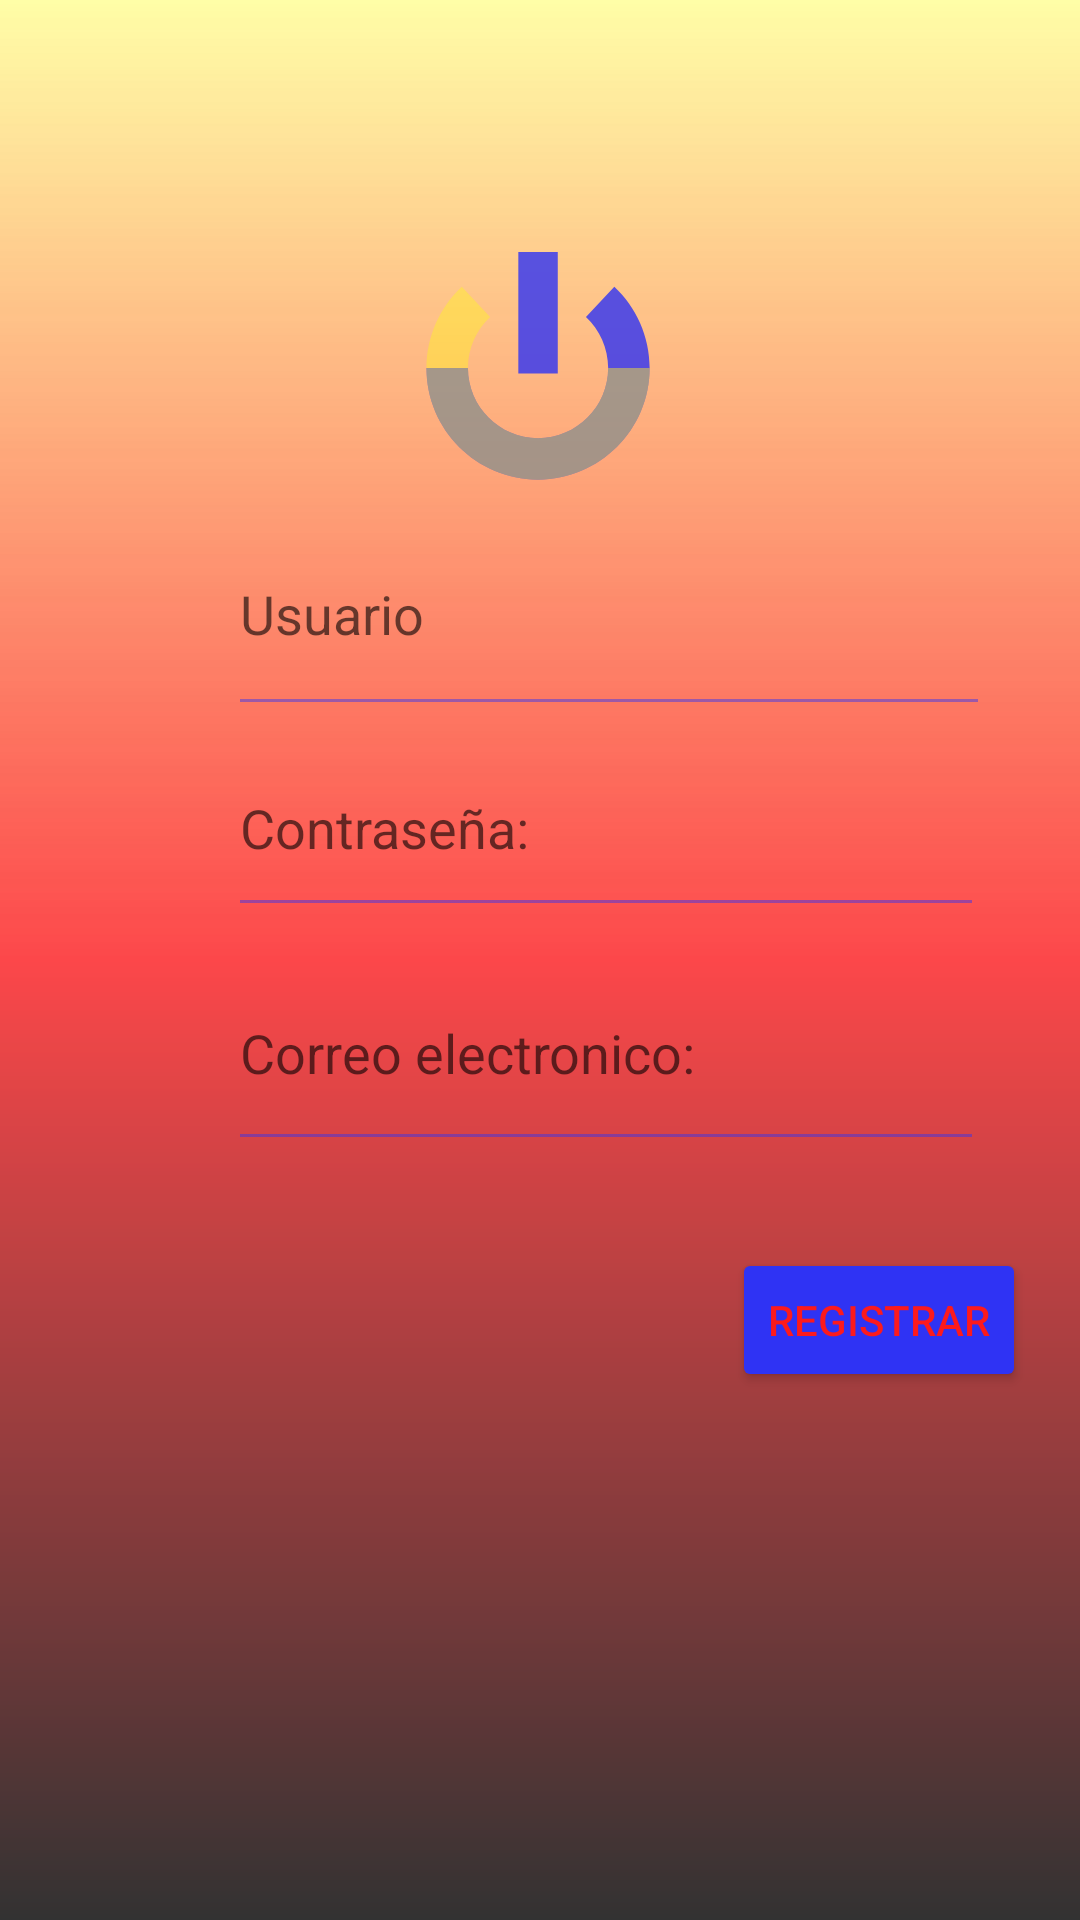

Icons on this 1080px×1920px Android screen, each with the point to tap as [x,y]:
power: [538,370]
